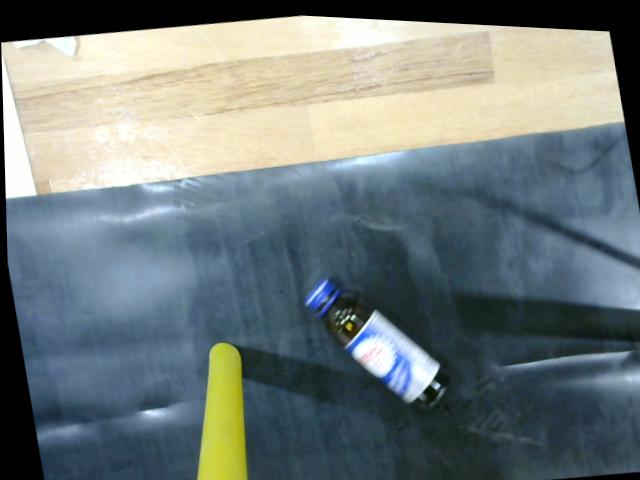glass: (293, 267, 463, 418)
